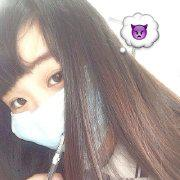OK: (2, 48, 115, 161)
